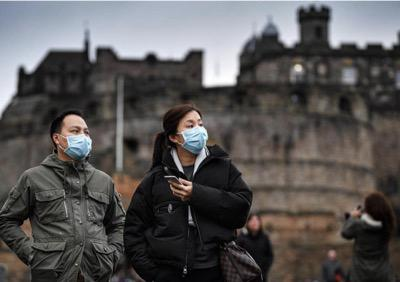with_mask: (60, 123, 93, 161), (178, 117, 209, 154)
without_mask: (247, 213, 261, 231)
